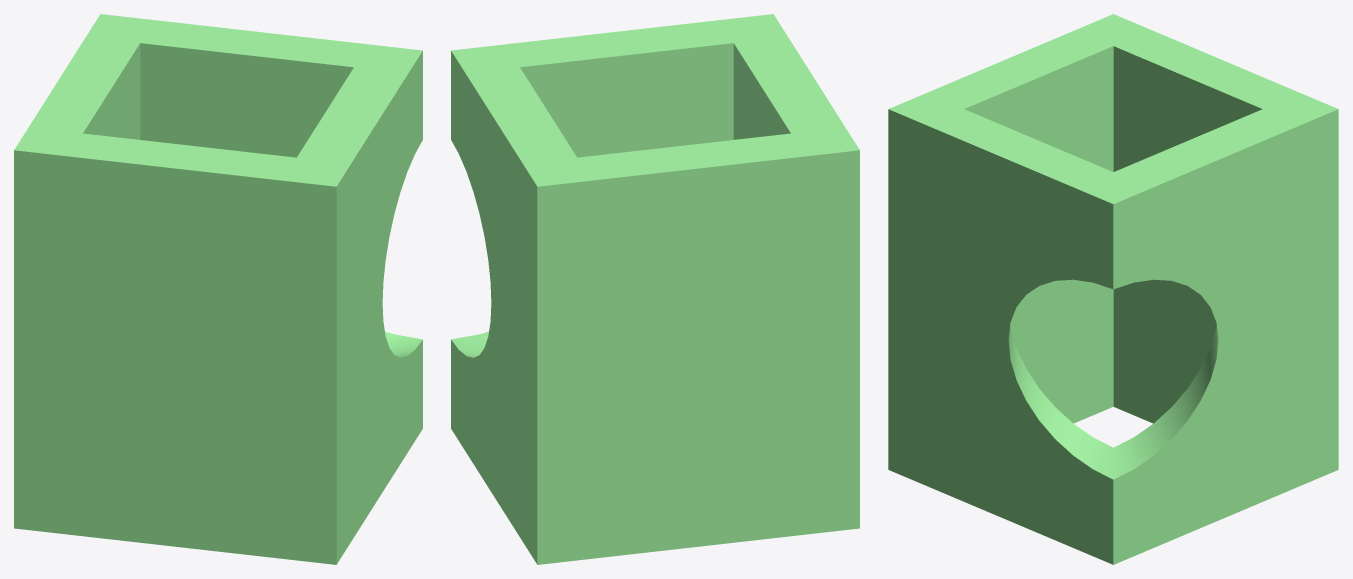
The model's file is var_9.glb.
3 views of the same model, side by side, from view 1: azimuth 30°, elevation 25°; view 2: azimuth 150°, elevation 25°; view 3: azimuth 270°, elevation 25° (orthographic). The views are drawn at different scales.
Parts seen in each view (by area): view 1: Cube.005; view 2: Cube.005; view 3: Cube.005.
Boxes of the visible parts, bbox=[...] form: Cube.005: bbox=[14, 14, 422, 564]; Cube.005: bbox=[451, 14, 859, 564]; Cube.005: bbox=[888, 14, 1338, 564].
Bounding box in the file's own units: 2.26 × 2 × 2.26.
